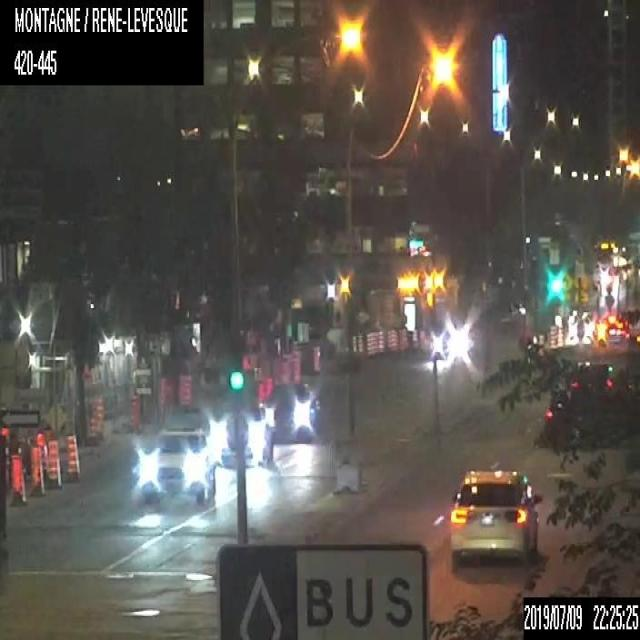construction: (10, 449, 26, 507), (85, 399, 102, 441), (28, 447, 41, 496), (65, 432, 78, 481), (278, 351, 299, 381), (48, 438, 60, 487), (257, 372, 274, 403), (128, 391, 139, 429), (179, 370, 189, 407), (312, 343, 320, 373), (550, 326, 558, 348), (401, 324, 407, 348), (387, 328, 394, 348), (366, 333, 372, 354), (372, 331, 378, 352), (391, 329, 397, 349), (378, 331, 384, 350), (357, 334, 363, 351), (352, 334, 356, 351)
vehicle: (445, 466, 541, 574), (140, 420, 217, 499), (212, 404, 272, 468), (262, 382, 321, 442), (594, 310, 628, 345)
